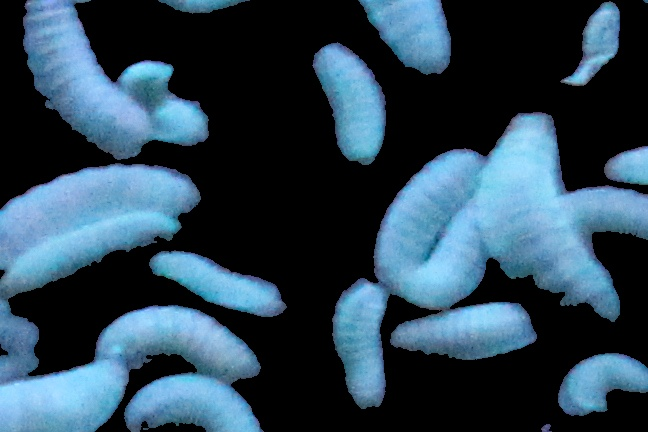larvae: (472, 111, 591, 303), (28, 1, 146, 148), (1, 214, 179, 293), (373, 147, 482, 260), (103, 299, 259, 377), (1, 164, 200, 225), (396, 202, 494, 309), (1, 354, 131, 432), (325, 278, 392, 406), (152, 252, 285, 316), (118, 59, 209, 147), (388, 302, 531, 357), (131, 377, 251, 432), (561, 346, 648, 420), (364, 1, 453, 71), (328, 55, 381, 165), (559, 178, 648, 243)
